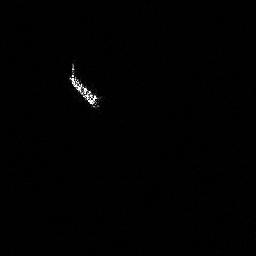ship: (69, 76, 97, 105)
